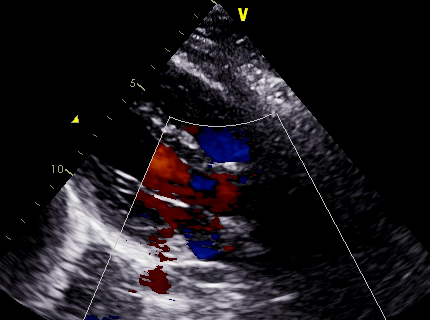AR: (157, 160, 245, 224)
